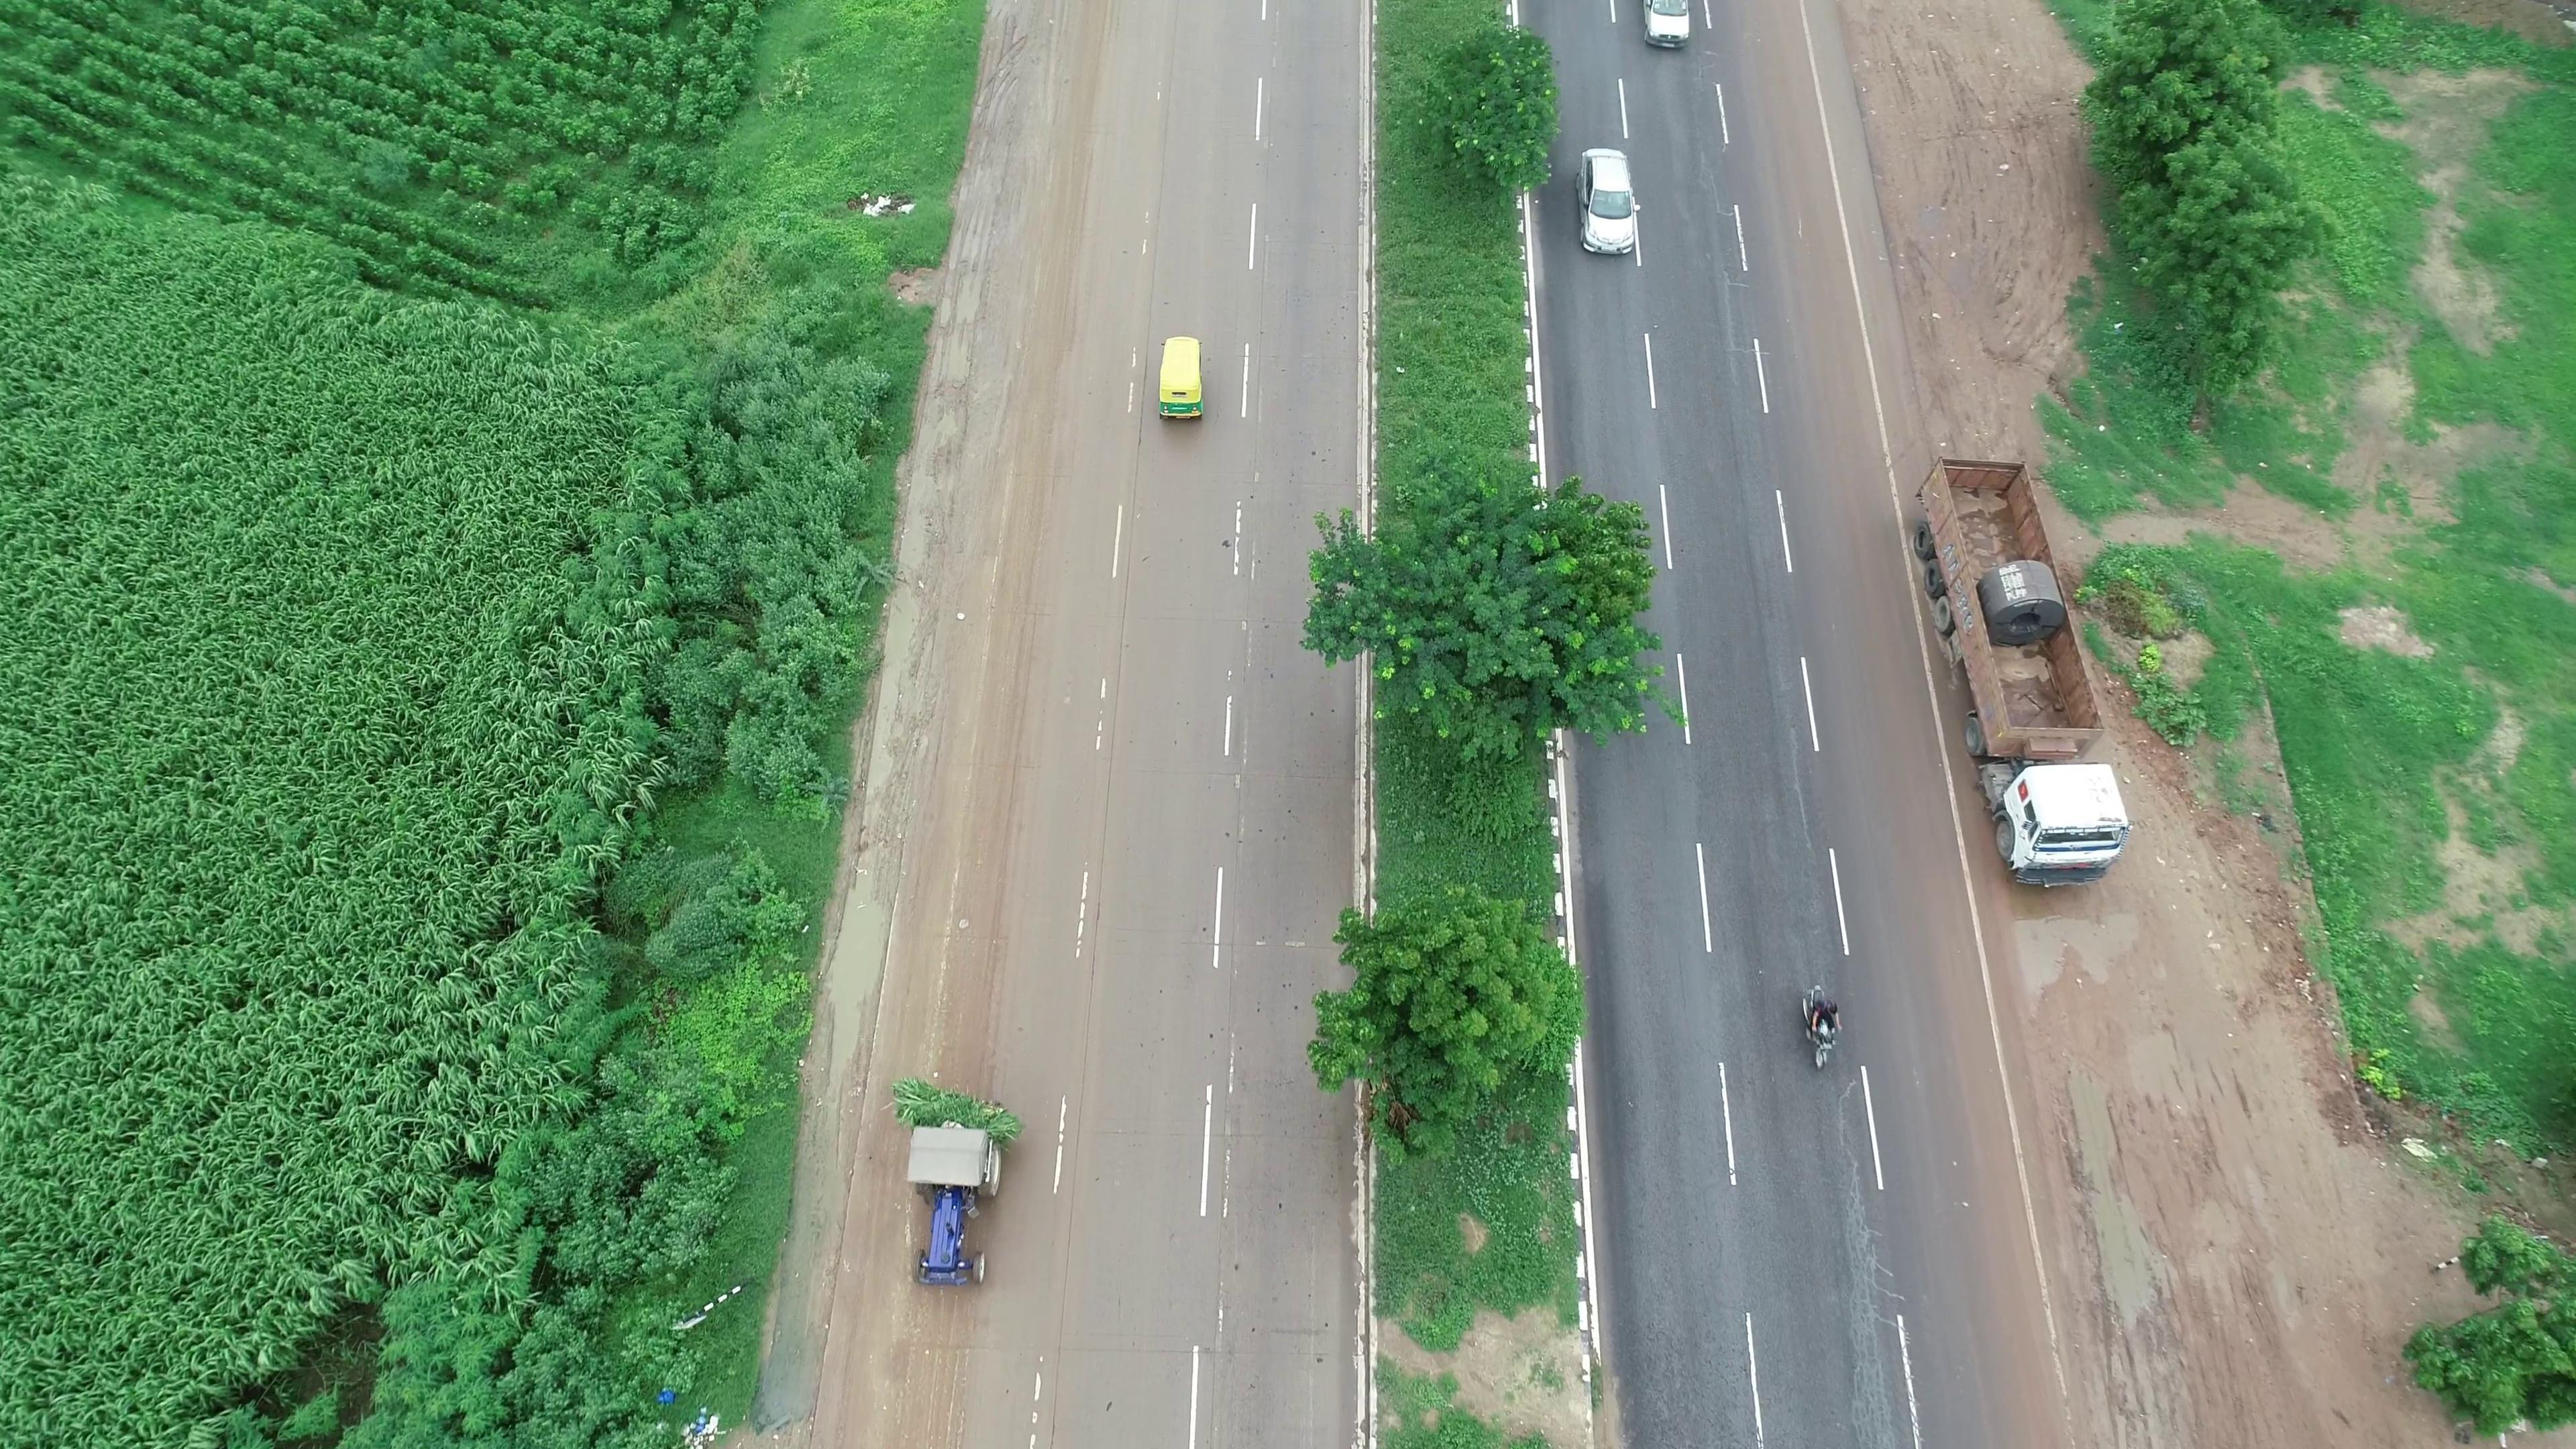Longitudinal_cracks: (1817, 1085, 1907, 1440)
